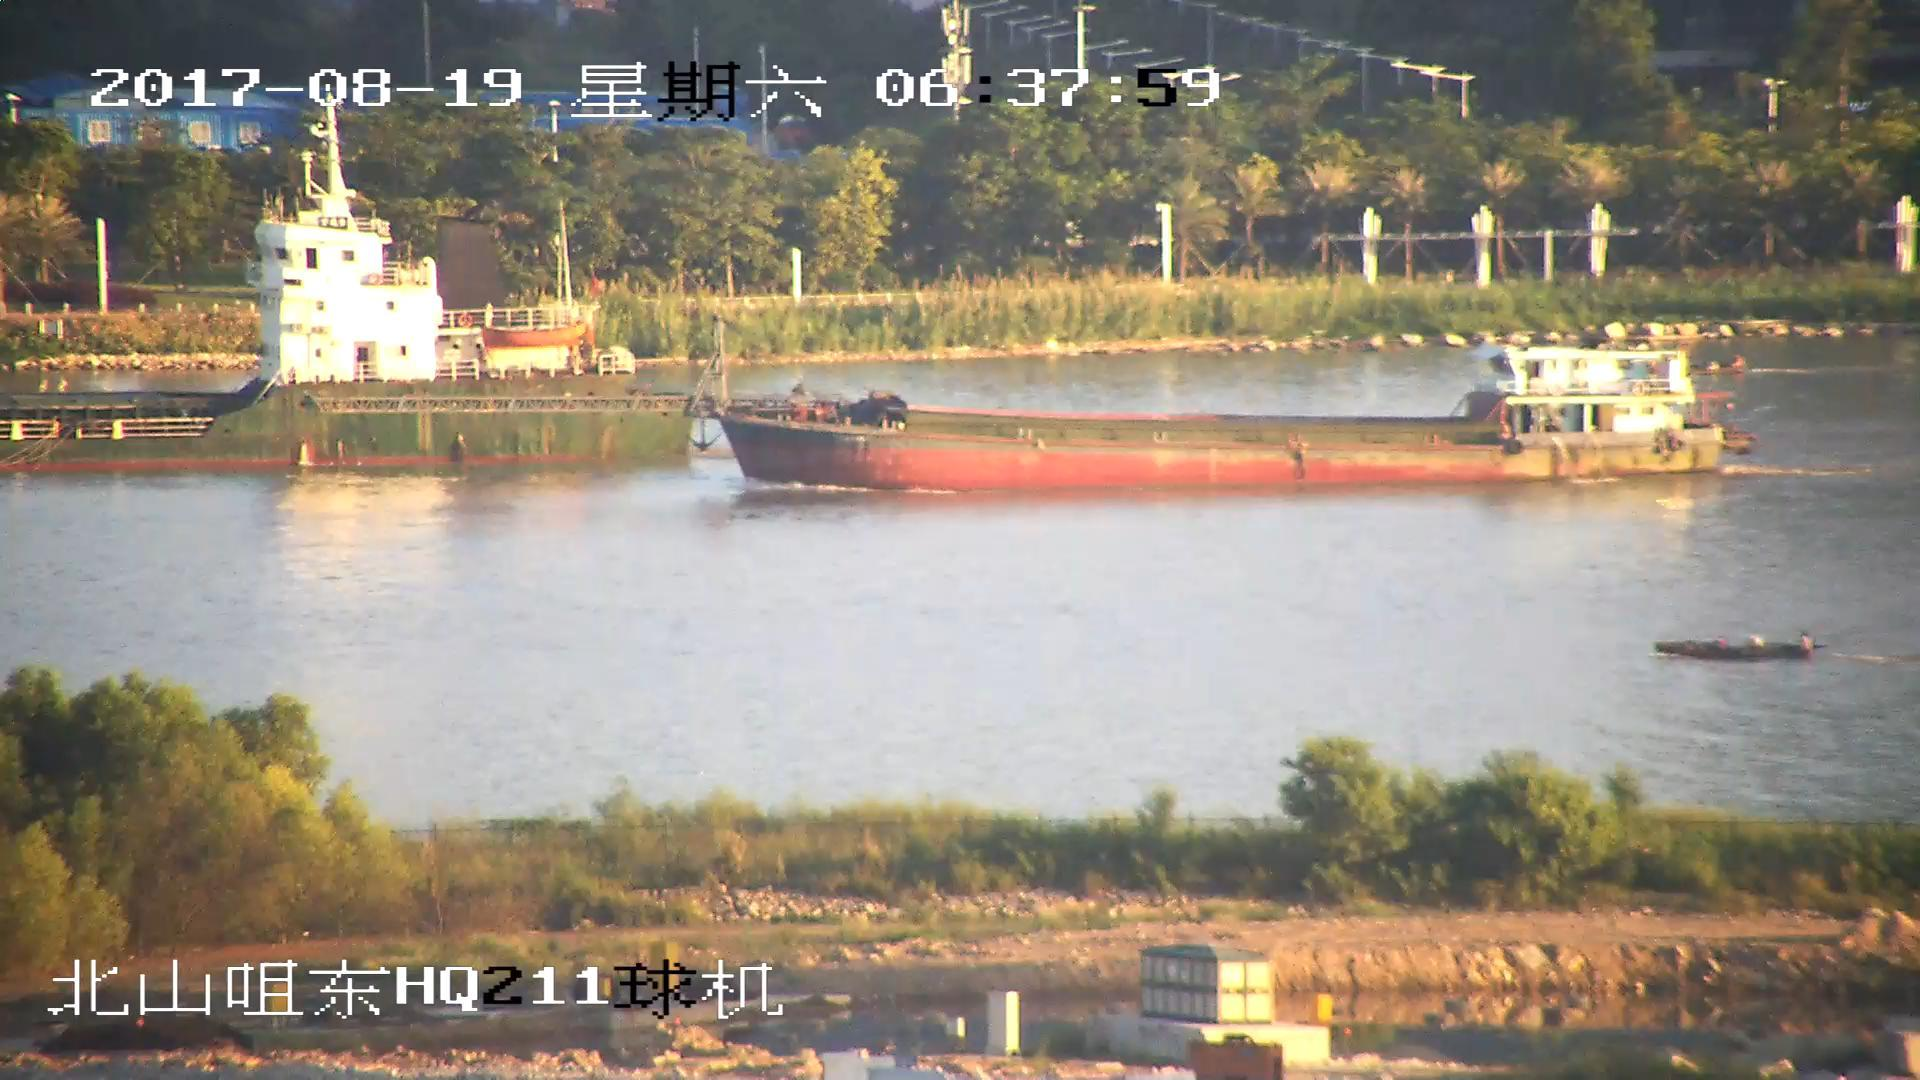Ship: (3, 127, 692, 469), (702, 340, 1737, 489), (1654, 632, 1822, 663)
